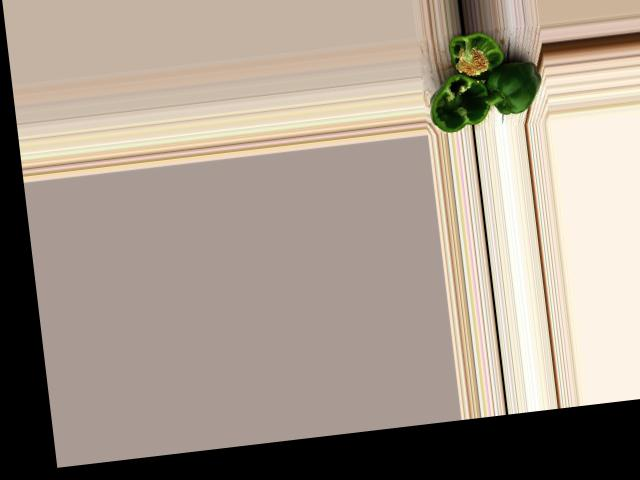bell_pepper: (436, 29, 510, 83)
